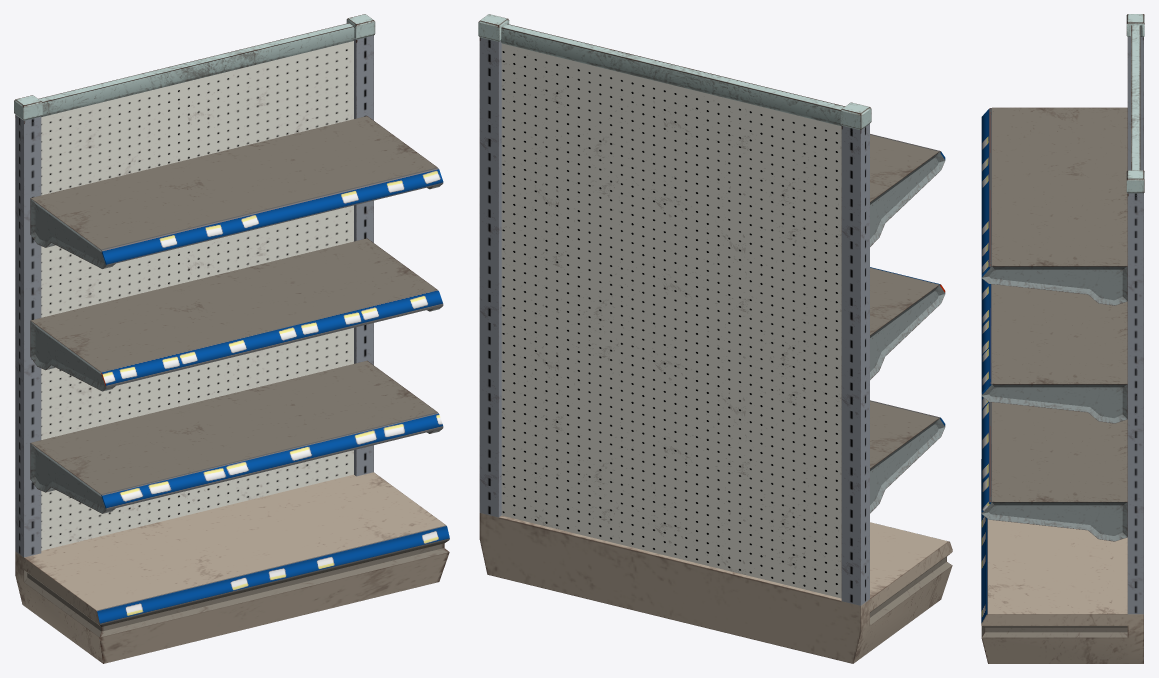
Rendered from Shelf_1.fbx.
The picture shows the model from 3 angles, left to right: view 1: azimuth 30°, elevation 25°; view 2: azimuth 150°, elevation 25°; view 3: azimuth 270°, elevation 25°; orthographic projection. The views are drawn at different scales.
Parts seen in each view (by area): view 1: Shelf_1; view 2: Shelf_1; view 3: Shelf_1.
Part boxes in pixels (x1=…): Shelf_1: x1=14, y1=14, x2=449, y2=663; Shelf_1: x1=478, y1=14, x2=952, y2=663; Shelf_1: x1=981, y1=14, x2=1144, y2=663.
Size of the model in its own units: 1.53 by 2.11 by 0.6387.
